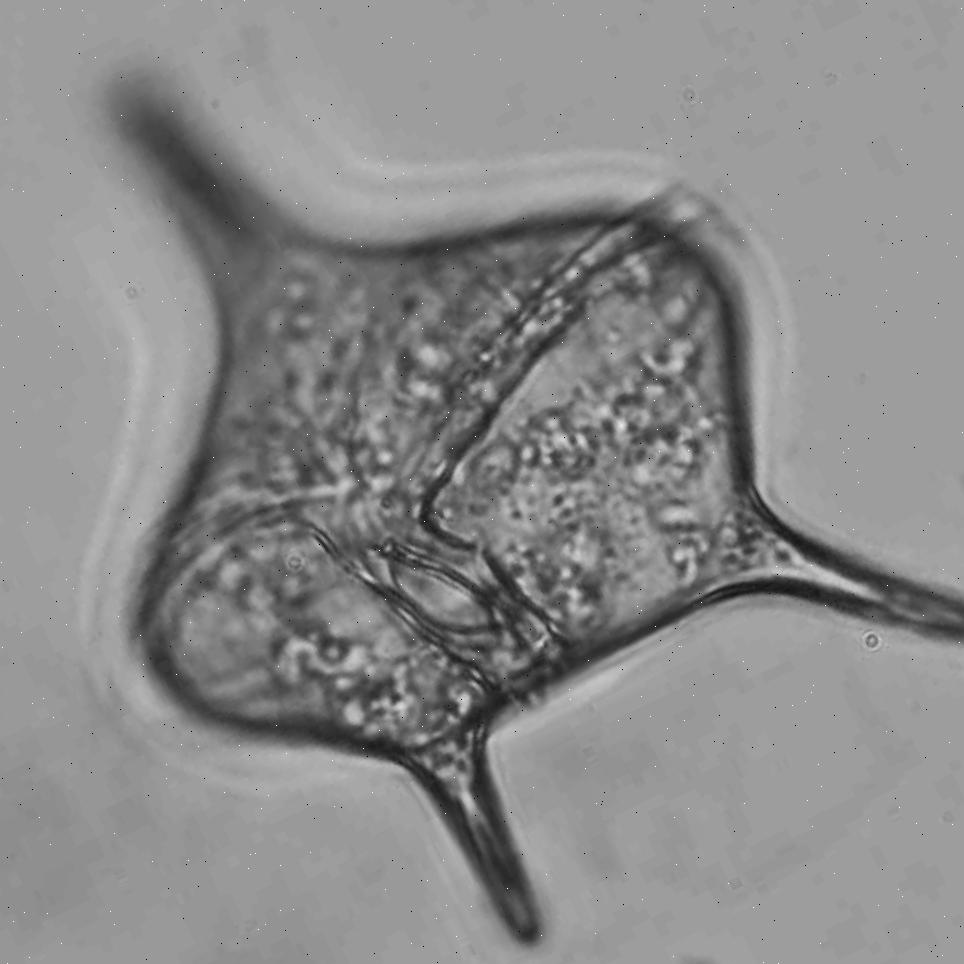protoperidinium_oceanicum: (119, 100, 964, 933)
